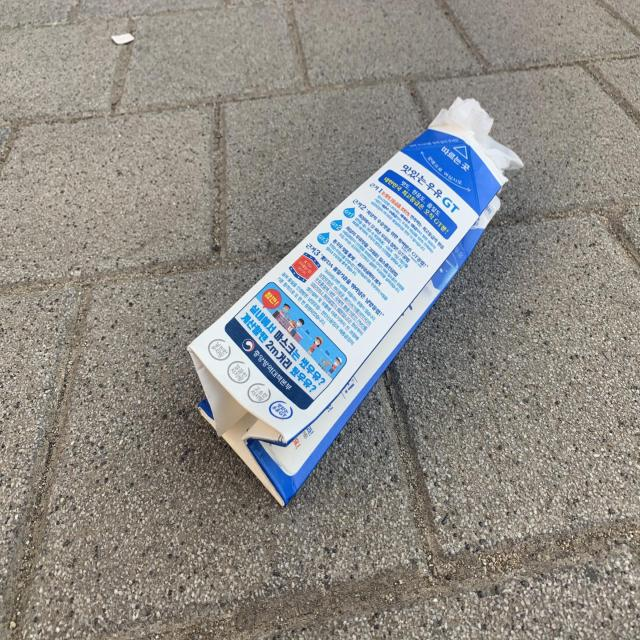paperpack: (187, 97, 524, 506)
